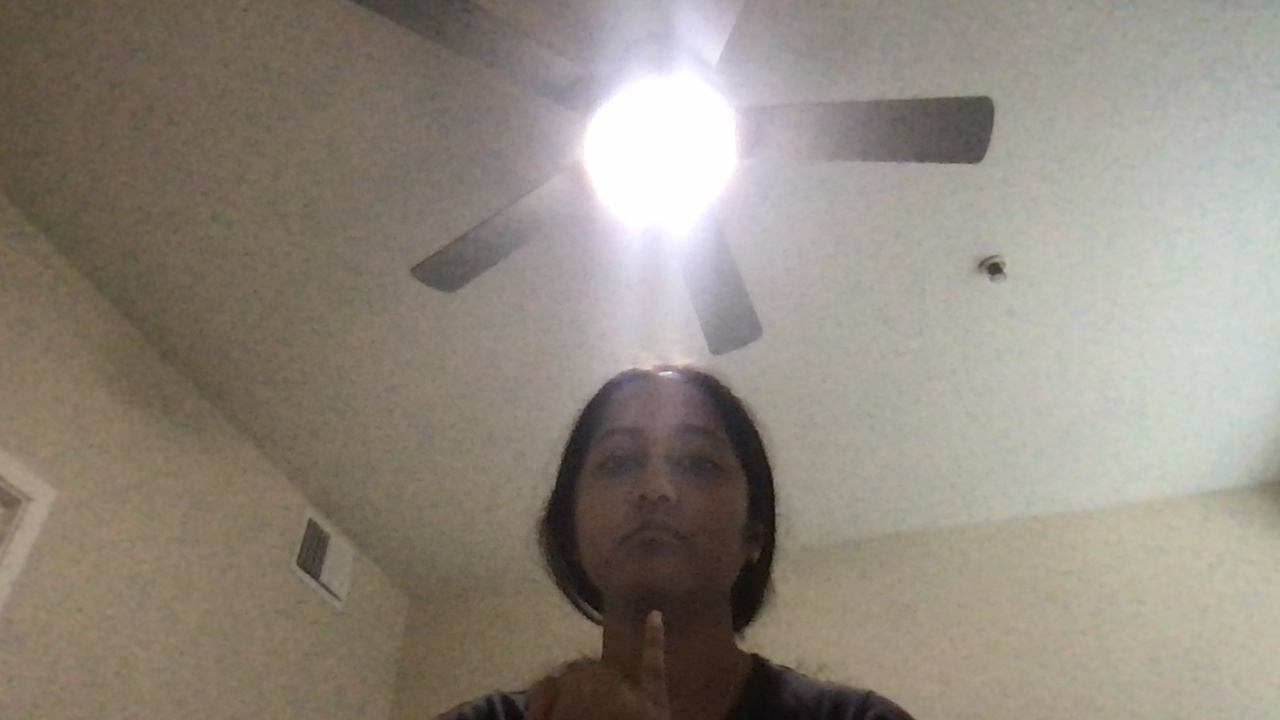j: (532, 608, 686, 720)
